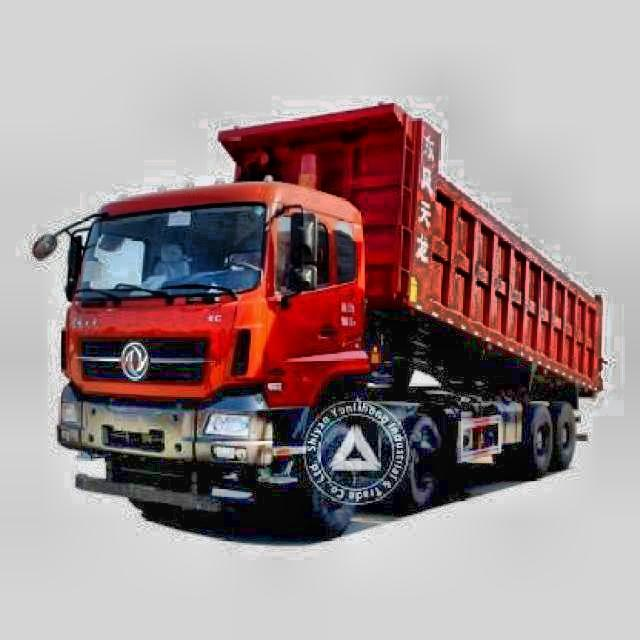dump_truck: (23, 94, 617, 530)
